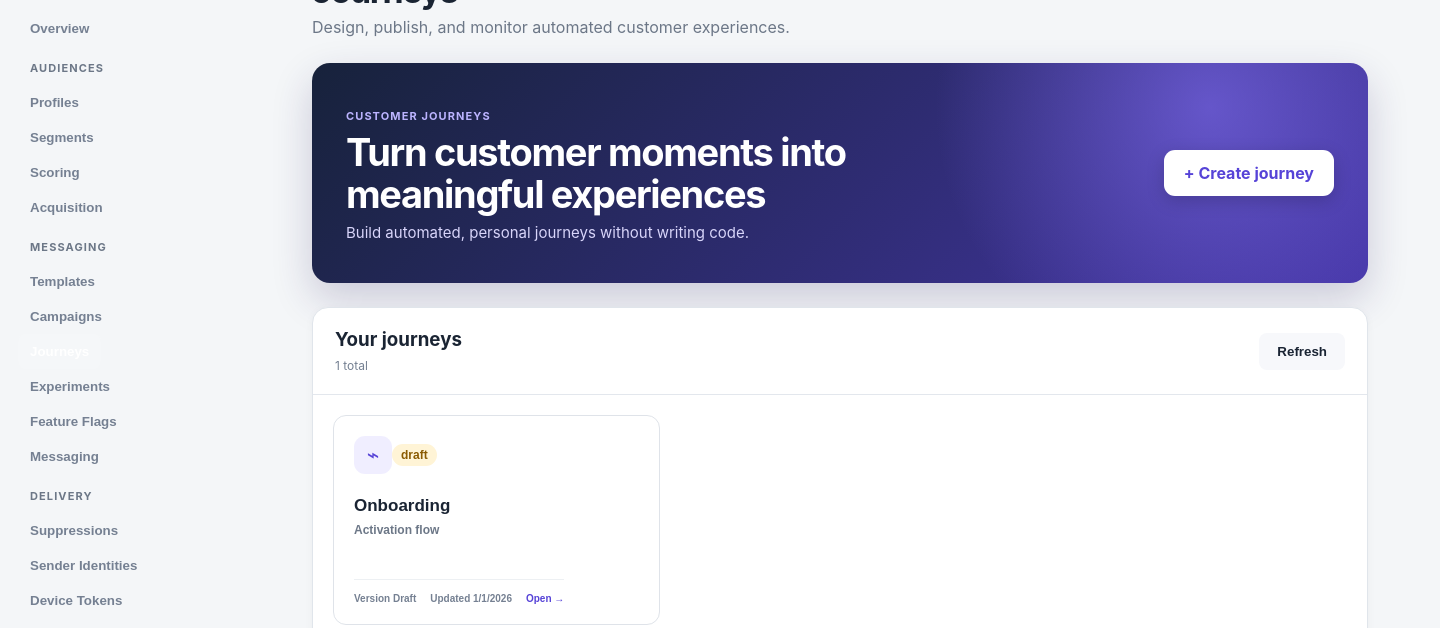
Scenario: App › offers plain-language journey design steps
Check: the heading "Onboarding" is shown, box [354,496,450,516]
Click the button "Onboarding" at (373, 455), box [333,415,660,625]
(page scrolled)
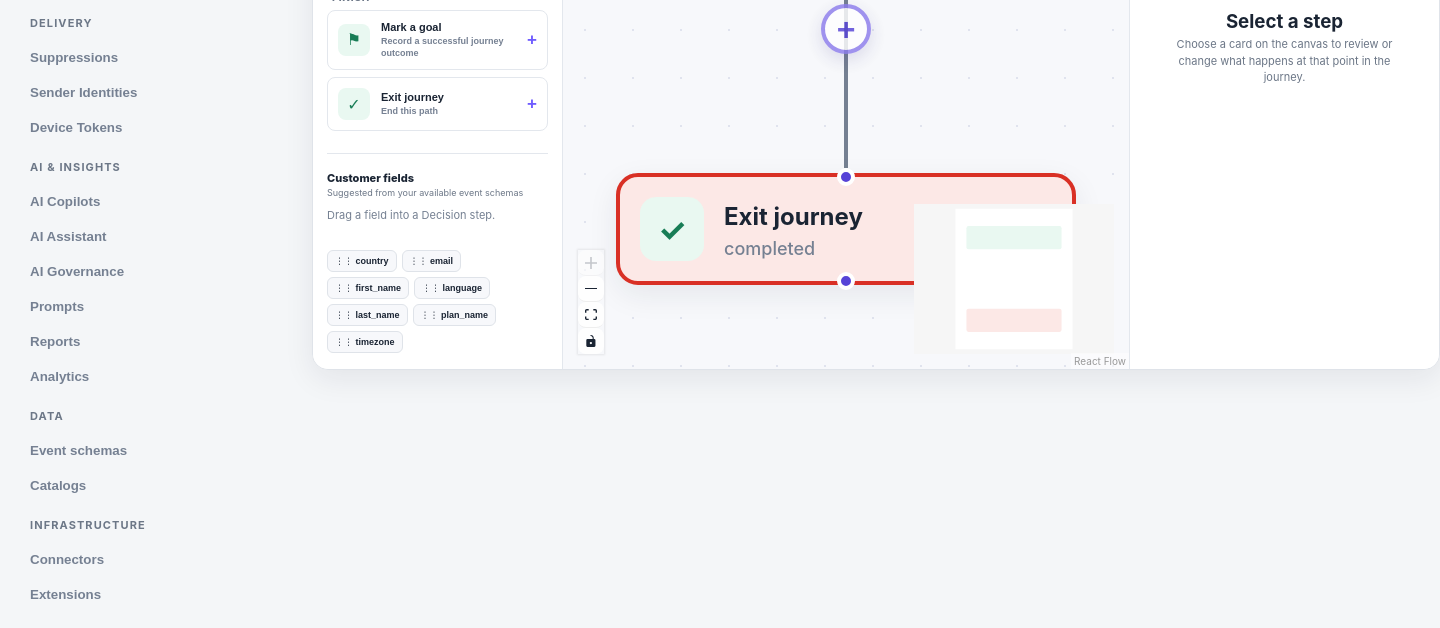
Check: the button "⋮⋮ plan_name" is shown, box [412,304,496,326]
